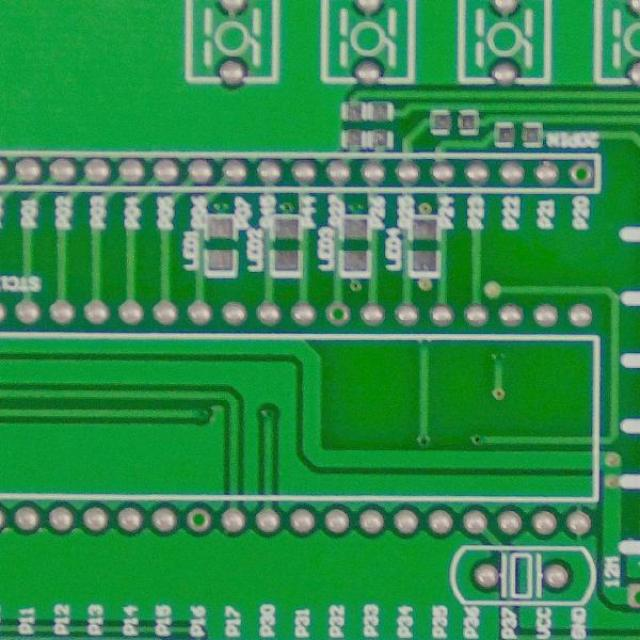Missing_Hole: (179, 504, 217, 534), (322, 300, 352, 326), (567, 160, 594, 188), (624, 579, 639, 610)
